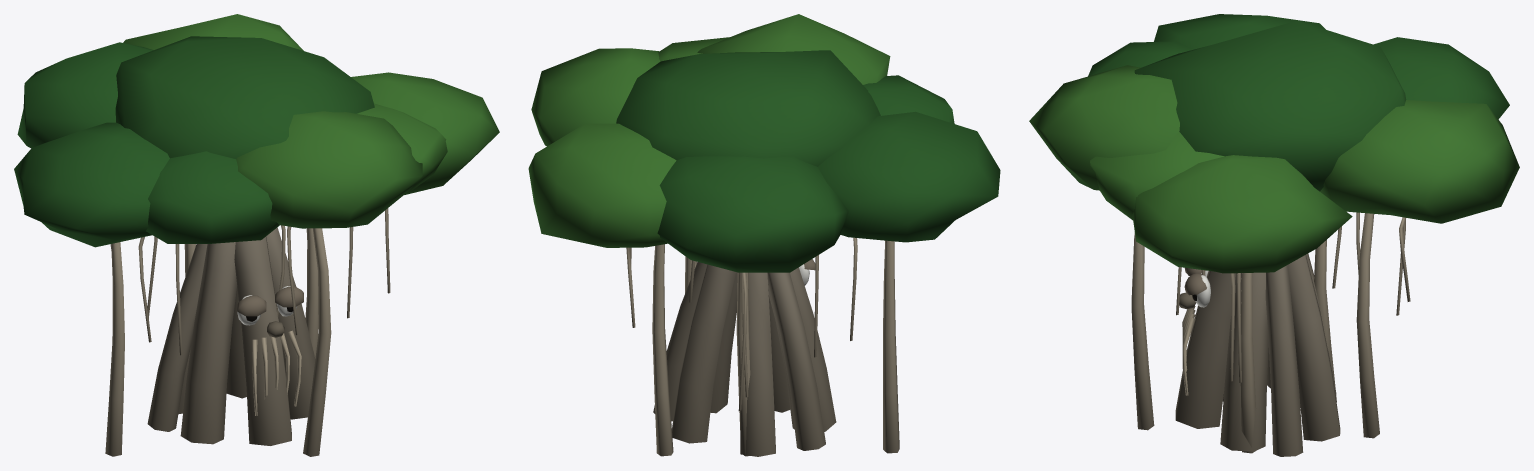
Rendered from banyan_snare.glb.
3 renders of one model, left to right at view 1: azimuth 30°, elevation 25°; view 2: azimuth 150°, elevation 25°; view 3: azimuth 270°, elevation 25°, orthographic. The views are drawn at different scales.
Visible parts, largest first — view 1: banyan_tree, banyan_roots; view 2: banyan_tree, banyan_roots; view 3: banyan_tree, banyan_roots.
Boxes of the visible parts, x1=… form: banyan_tree: x1=14, y1=14, x2=499, y2=445; banyan_roots: x1=105, y1=208, x2=390, y2=456; banyan_tree: x1=528, y1=14, x2=1000, y2=456; banyan_roots: x1=626, y1=237, x2=899, y2=456; banyan_tree: x1=1029, y1=14, x2=1519, y2=456; banyan_roots: x1=1131, y1=212, x2=1410, y2=453.
Size of the model in its own units: 1.81 by 1.34 by 1.63.
